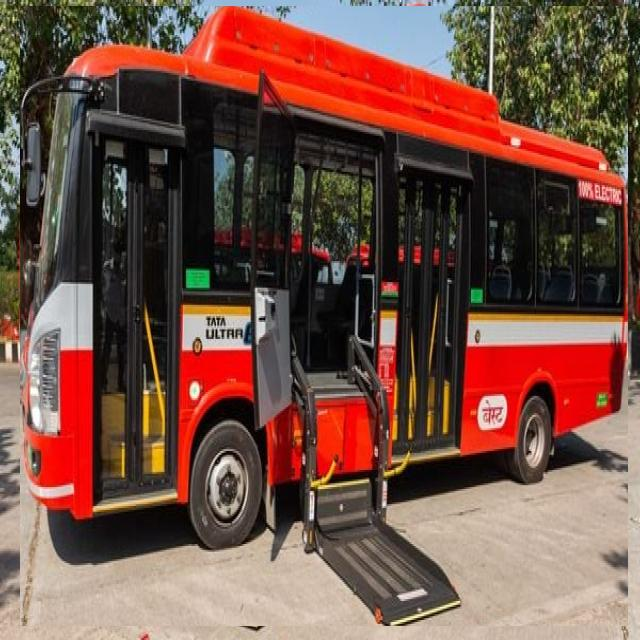bus: (20, 6, 628, 626)
